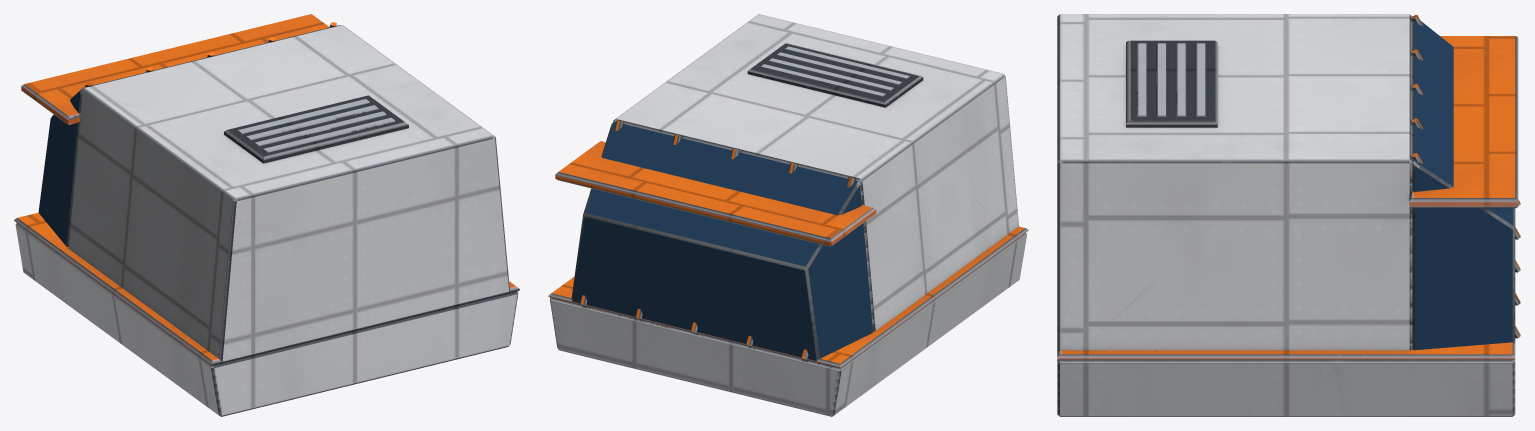
File: cabina_transporte_t2.fbx
3 views of the same model, side by side, from view 1: azimuth 30°, elevation 25°; view 2: azimuth 150°, elevation 25°; view 3: azimuth 270°, elevation 25° (orthographic). The views are drawn at different scales.
Visible parts, largest first — view 1: cabina_transporte_t2, cabina_transporte_t2_cristal; view 2: cabina_transporte_t2, cabina_transporte_t2_cristal; view 3: cabina_transporte_t2, cabina_transporte_t2_cristal.
Boxes of the visible parts, x1,y1,x2,y2 form: cabina_transporte_t2: (14, 14, 519, 416); cabina_transporte_t2_cristal: (38, 91, 80, 246); cabina_transporte_t2: (548, 14, 1028, 416); cabina_transporte_t2_cristal: (572, 121, 872, 360); cabina_transporte_t2: (1057, 14, 1520, 416); cabina_transporte_t2_cristal: (1414, 21, 1513, 350).
Bounding box in the file's own units: 3.6 × 2.66 × 4.05.
